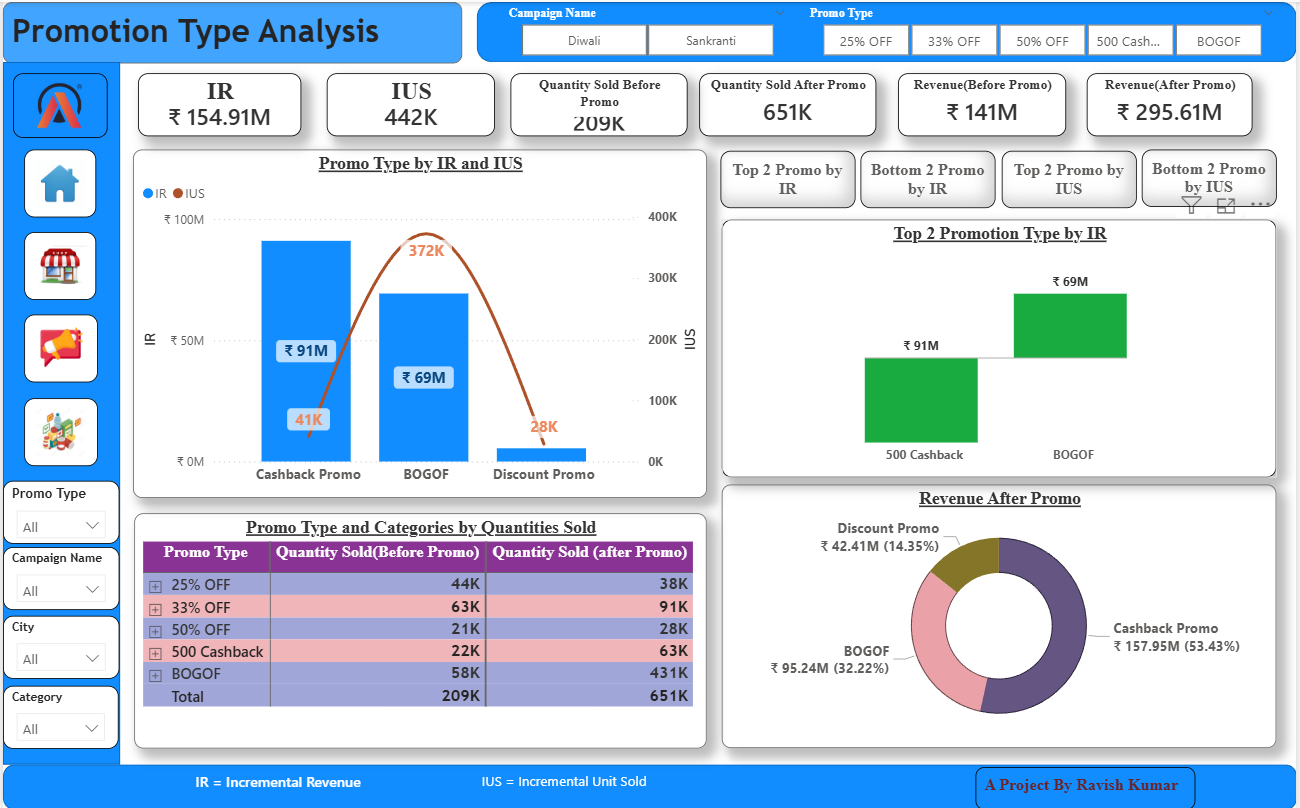

This screenshot's page, from the dashboard's own definition file:
{"tool":"powerbi","page":{"name":" Promotion Type Analysis","canvas":[1280,800],"ordinal":2},"visuals":[{"type":"card","title":"IR","fields":{"Values":["Measures (2).Incremental Revenue"]},"box":[133.9,70,161.7,62.7],"z":0},{"type":"card","title":"IUS","fields":{"Values":["Measures (2).Incremental Unit Sold"]},"box":[320.9,70,166.5,62.7],"z":1000},{"type":"card","title":"Revenue(Before Promo)","fields":{"Values":["Measures (2).Revenue Before Promo"]},"box":[885.5,70,166.5,62.7],"z":2000},{"type":"card","title":"Revenue(After Promo)","fields":{"Values":["Measures (2).Revenue After Promo"]},"box":[1072.5,70,164.1,62.7],"z":3000},{"type":"card","title":"Quantity Sold After Promo","fields":{"Values":["Measures (2).Quantity Sold (after Promo)"]},"box":[688.9,70,174.9,62.7],"z":4000},{"type":"card","title":"Quantity Sold Before Promo","fields":{"Values":["Measures (2).Quantity Sold(Before Promo)"]},"box":[502.6,71,175.2,62.3],"z":5000},{"type":"textbox","box":[0,0,454,60.8],"z":6000},{"type":"shape","box":[468.9,0,811.3,59.5],"z":7000},{"type":"shape","box":[0,754.6,1280.3,44.9],"z":8000},{"type":"shape","box":[0,59.4,115.9,695.2],"z":9000},{"type":"slicer","title":"Campaign Name","fields":{"Values":["dim_campaigns.campaign_name"]},"box":[0,539.4,115.1,62.6],"z":10000},{"type":"slicer","title":"Promo Type","fields":{"Values":["fact_events.promo_type"]},"box":[0,474.3,115.1,62.6],"z":11000},{"type":"image","box":[10,70.1,93.9,63.8],"z":12000},{"type":"image","box":[21.3,146.4,71.3,67.6],"z":13000},{"type":"image","box":[21.3,227.8,71.3,67.6],"z":14000},{"type":"image","box":[21.3,309.1,72.6,67.6],"z":15000},{"type":"image","box":[21.3,391.7,72.6,67.6],"z":16000},{"type":"slicer","title":"City","fields":{"Values":["dim_stores.city"]},"box":[0,607,115.1,62.6],"z":17000},{"type":"slicer","title":"Campaign","fields":{"Values":["dim_campaigns.campaign_name"]},"box":[486.8,0,299.1,60.1],"z":18000},{"type":"slicer","title":"Promo Type","fields":{"Values":["fact_events.promo_type"]},"box":[785.9,0,484.3,60.1],"z":19000},{"type":"textbox","box":[961.7,757.5,217.2,42],"z":20000},{"type":"textbox","box":[185.4,757.5,199.9,33.3],"z":21000},{"type":"textbox","box":[469.2,757.5,220.1,33.3],"z":22000},{"type":"waterfallChart","title":"Top 2 Promotion Type by IR","fields":{"Category":["fact_events.promo_type"],"Y":["Measures (2).Incremental Revenue"]},"box":[711.1,215.8,548.9,254.9],"z":23000},{"type":"lineClusteredColumnComboChart","title":"Promo Type by IR and IUS","fields":{"Category":["fact_events.Promo Group"],"Y":["Measures (2).Incremental Revenue"],"Y2":["Measures (2).Incremental Sold Unit"]},"box":[128.9,146.3,567.7,344.7],"z":24000},{"type":"actionButton","box":[709.7,146.8,133.2,56.5],"z":25000},{"type":"pivotTable","title":"Promo Type and Categories by Quantities Sold","fields":{"Rows":["fact_events.promo_type","dim_products.category"],"Values":["Measures (2).Quantity Sold(Before Promo)","Measures (2).Quantity Sold (after Promo)"]},"box":[130.3,505.5,566.3,233.2],"z":26000},{"type":"donutChart","title":"Revenue After Promo ","fields":{"Category":["fact_events.Promo Group"],"Y":["Measures (2).Revenue After Promo"]},"box":[711.1,477.9,548.9,260.7],"z":27000},{"type":"actionButton","box":[848.7,147.7,133.2,56.5],"z":28000},{"type":"actionButton","box":[987.7,147.2,133.2,56.5],"z":29000},{"type":"actionButton","box":[1126.8,146.3,133.2,56.5],"z":30000},{"type":"slicer","title":"Category","fields":{"Values":["dim_products.category"]},"box":[0,676.4,114.4,62.3],"z":31000}]}

Visuals, with their boxes in screenshot pixels (x1, y1, x2, y2), scaled from the page's 1280x800 canvas onto the 1300x808 screenshot:
"IR" card: select_region(136, 71, 300, 134)
"IUS" card: select_region(326, 71, 495, 134)
"Revenue(Before Promo)" card: select_region(899, 71, 1068, 134)
"Revenue(After Promo)" card: select_region(1089, 71, 1256, 134)
"Quantity Sold After Promo" card: select_region(700, 71, 877, 134)
"Quantity Sold Before Promo" card: select_region(510, 72, 688, 135)
textbox: select_region(0, 0, 461, 61)
shape: select_region(476, 0, 1299, 60)
shape: select_region(0, 762, 1299, 807)
shape: select_region(0, 60, 118, 762)
"Campaign Name" slicer: select_region(0, 545, 117, 608)
"Promo Type" slicer: select_region(0, 479, 117, 542)
image: select_region(10, 71, 106, 135)
image: select_region(22, 148, 94, 216)
image: select_region(22, 230, 94, 298)
image: select_region(22, 312, 95, 380)
image: select_region(22, 396, 95, 464)
"City" slicer: select_region(0, 613, 117, 676)
"Campaign" slicer: select_region(494, 0, 798, 61)
"Promo Type" slicer: select_region(798, 0, 1290, 61)
textbox: select_region(977, 765, 1197, 807)
textbox: select_region(188, 765, 391, 799)
textbox: select_region(477, 765, 700, 799)
"Top 2 Promotion Type by IR" waterfallChart: select_region(722, 218, 1280, 475)
"Promo Type by IR and IUS" lineClusteredColumnComboChart: select_region(131, 148, 707, 496)
actionButton: select_region(721, 148, 856, 205)
"Promo Type and Categories by Quantities Sold" pivotTable: select_region(132, 511, 707, 746)
"Revenue After Promo " donutChart: select_region(722, 483, 1280, 746)
actionButton: select_region(862, 149, 997, 206)
actionButton: select_region(1003, 149, 1138, 206)
actionButton: select_region(1144, 148, 1280, 205)
"Category" slicer: select_region(0, 683, 116, 746)
